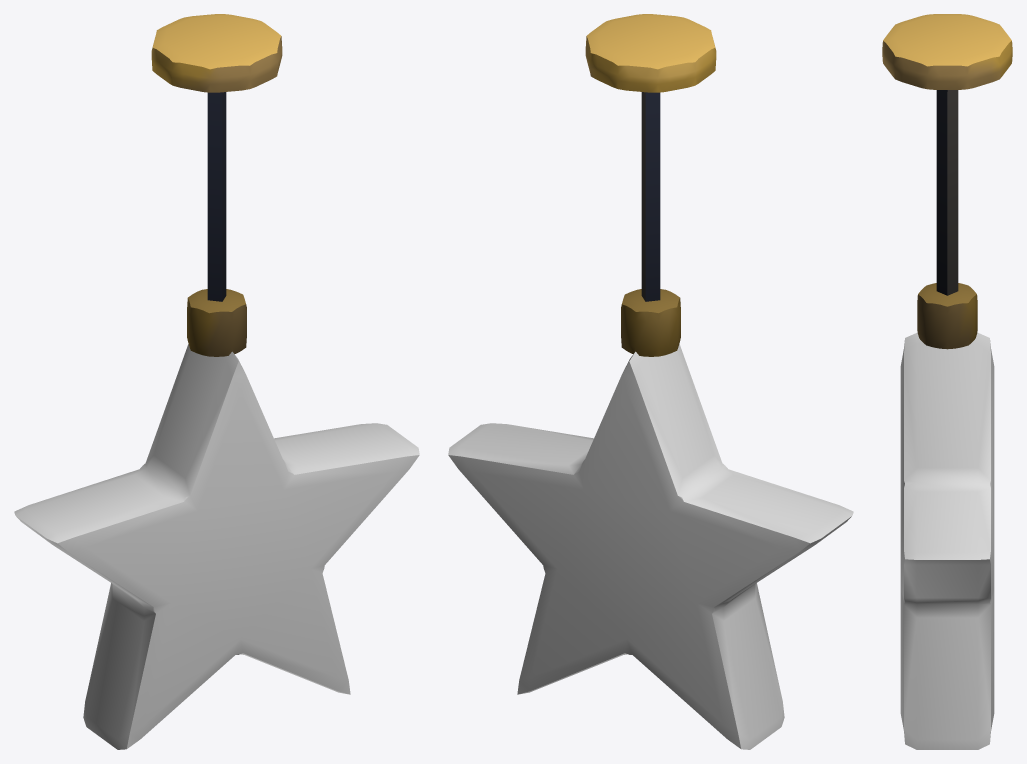
Rendered from StarLamp.fbx.
3 views of the same model, side by side, from view 1: azimuth 30°, elevation 25°; view 2: azimuth 150°, elevation 25°; view 3: azimuth 270°, elevation 25° (orthographic). The views are drawn at different scales.
Visible parts, largest first — view 1: SM_Xmas_StarLamp_Glow, SM_Xmas_StarLamp; view 2: SM_Xmas_StarLamp_Glow, SM_Xmas_StarLamp; view 3: SM_Xmas_StarLamp_Glow, SM_Xmas_StarLamp.
Boxes of the visible parts, left/top/right/bottom form: SM_Xmas_StarLamp_Glow: left=14, top=344, right=419, bottom=749; SM_Xmas_StarLamp: left=151, top=14, right=282, bottom=356; SM_Xmas_StarLamp_Glow: left=448, top=344, right=853, bottom=749; SM_Xmas_StarLamp: left=585, top=14, right=716, bottom=356; SM_Xmas_StarLamp_Glow: left=900, top=332, right=994, bottom=749; SM_Xmas_StarLamp: left=882, top=14, right=1012, bottom=349.
Bounding box in the file's own units: 1.58 × 2.72 × 0.4885.
